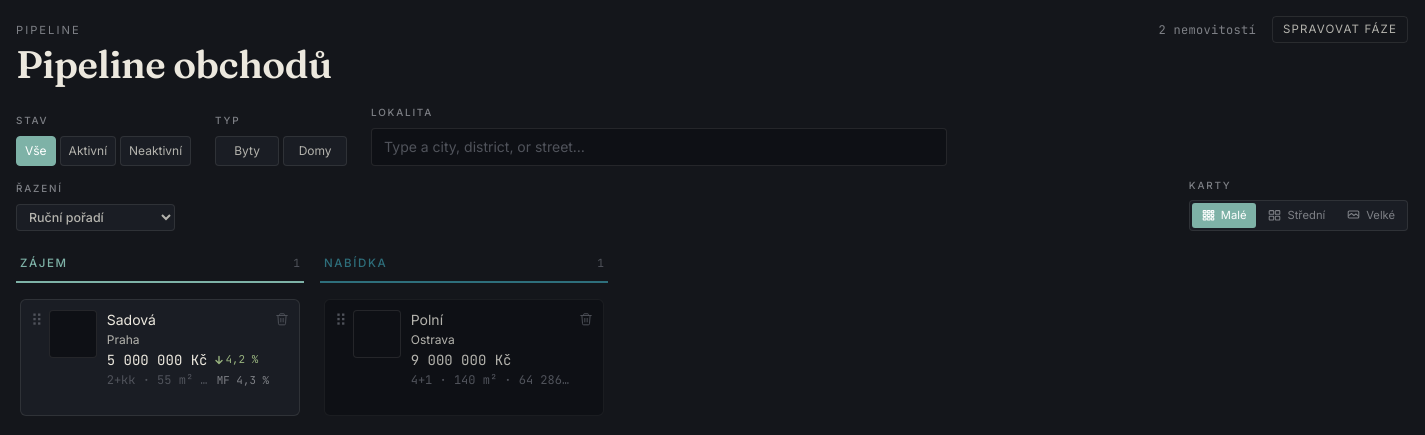
Scenario: <Pipeline> board › filters the board by active/inactive status
Expected: the link "Sadová" is shown, x1=107 y1=310 x2=156 y2=328
Expected: the link "Polní" is shown, x1=411 y1=310 x2=443 y2=328
// Filter to Aktivní → only the live card remains.
Step 1. Click the button "Aktivní" → (88, 151), box x1=60 y1=136 x2=116 y2=166
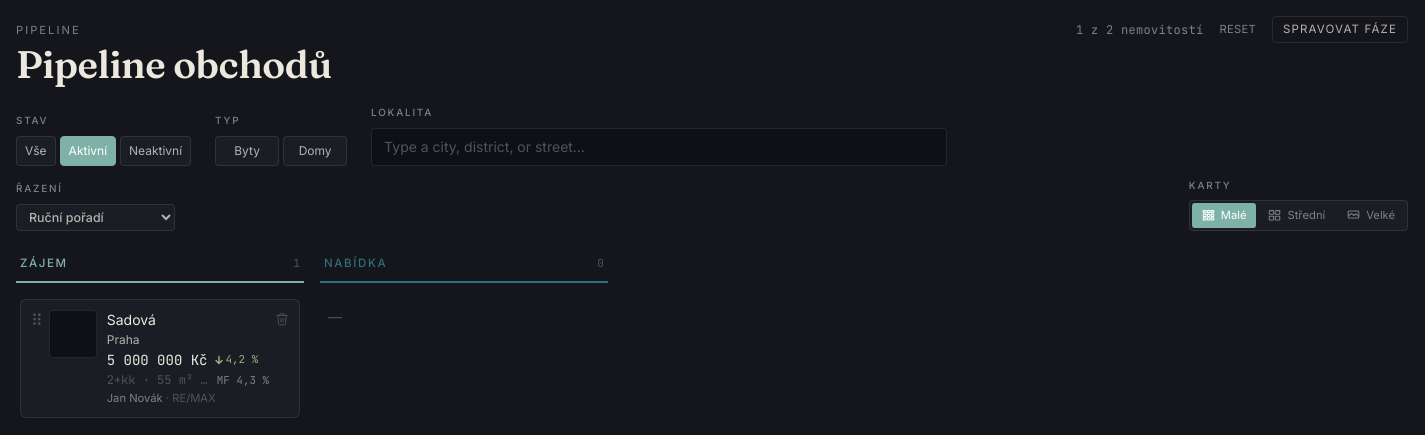
Expected: the link "Sadová" is shown, x1=107 y1=310 x2=156 y2=328
Now the link "Polní" is gone
// Switching to Neaktivní flips which card is visible.
Step 2. Click the button "Neaktivní" → (156, 151), box x1=120 y1=136 x2=191 y2=166
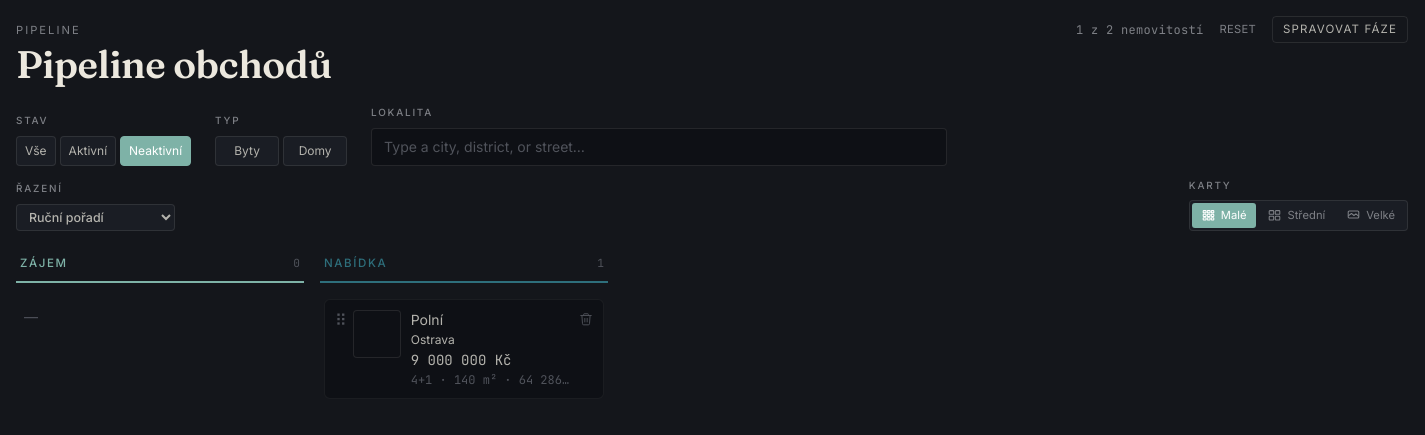
Now the link "Sadová" is gone
Now the link "Polní" is shown, box x1=411 y1=310 x2=443 y2=328
